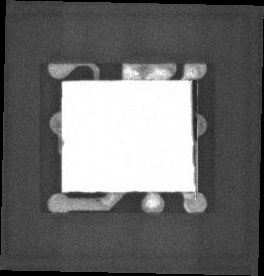DIE_BROKEN: (187, 76, 199, 185)
